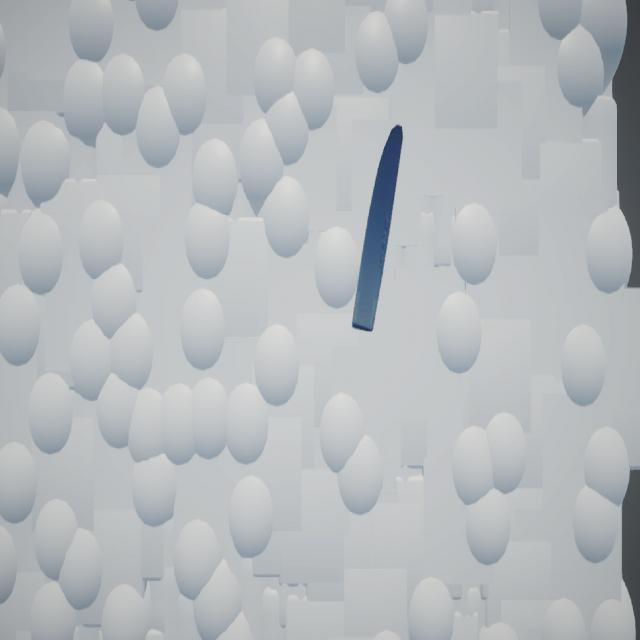top_knife: (353, 125, 404, 333)
